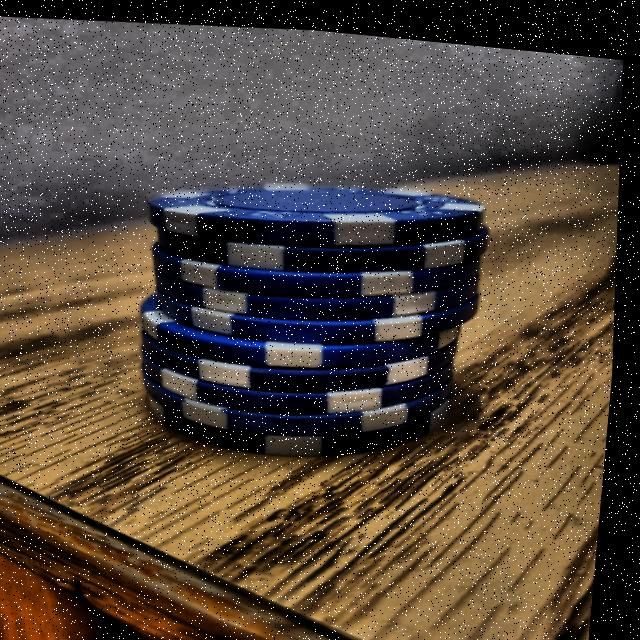Chip: (117, 147, 512, 477)
